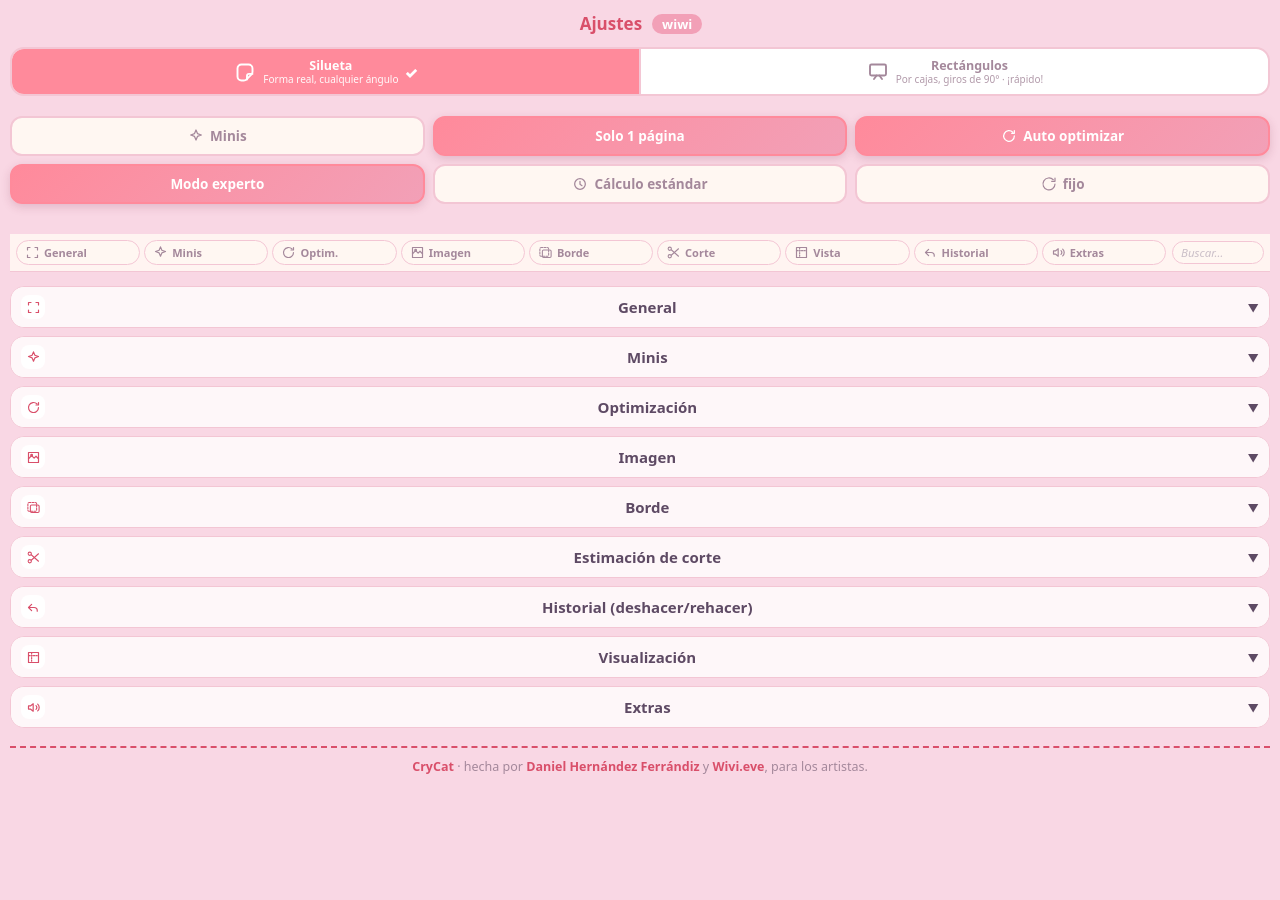
Scenario: Panel de ajustes › la sección visualización lista los temas y el cambio de icono
The image size is (1280, 900).
Click the text "Visualización": (647, 657) top-left (598, 647), bottom-right (696, 667)
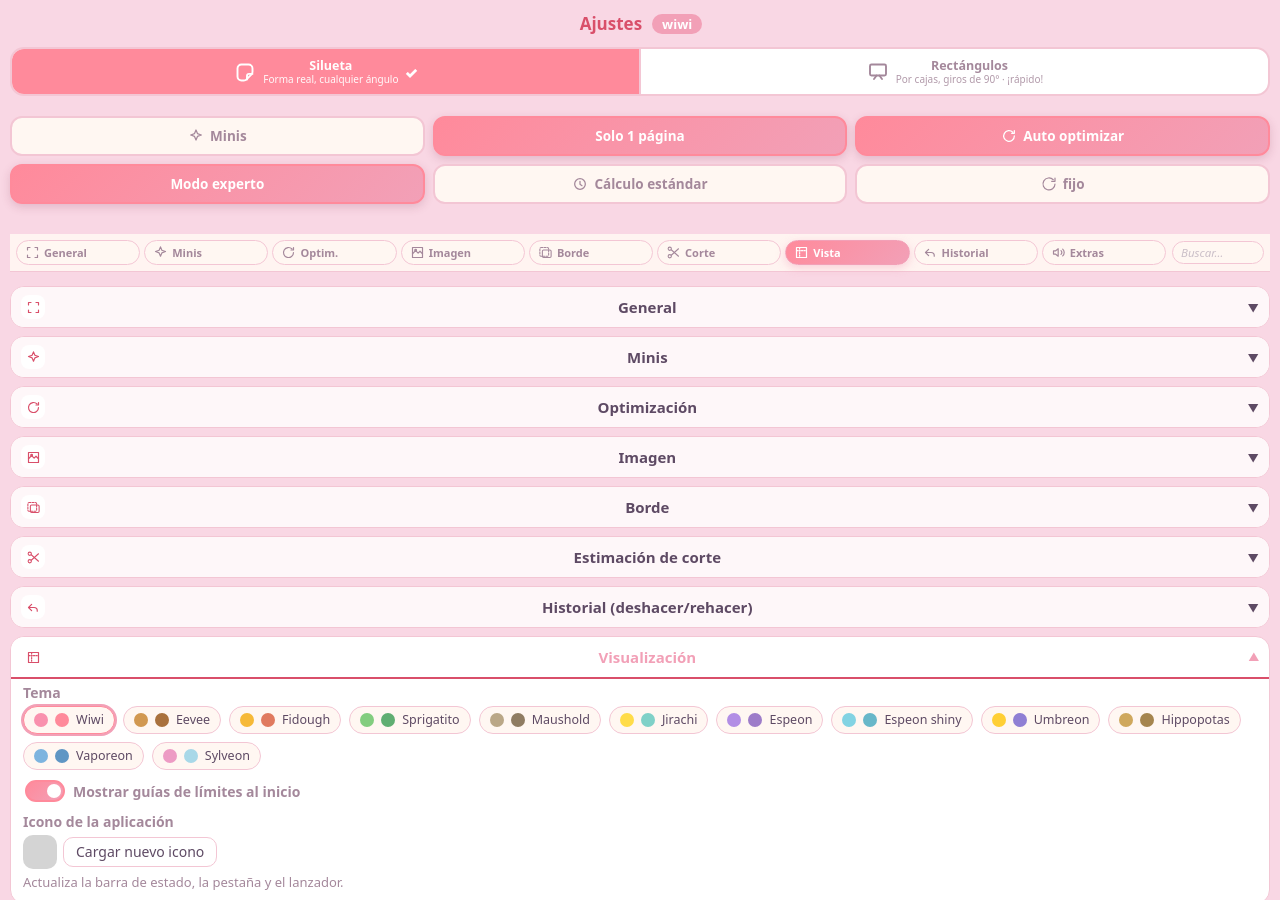
expect the button with test id "tema-wiwi" is shown: met, box top-left (23, 706), bottom-right (115, 734)
expect the button with test id "tema-umbreon" is shown: met, box top-left (981, 706), bottom-right (1100, 734)
expect the button with test id "btn-cambiar-icono" is shown: met, box top-left (63, 837), bottom-right (217, 867)
